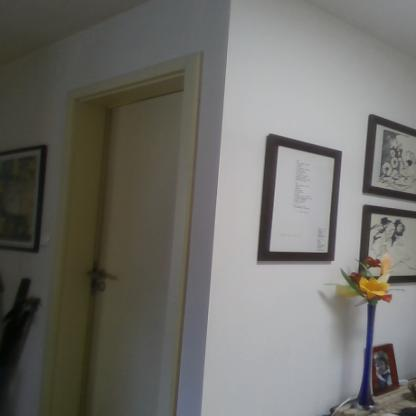door: (90, 106, 182, 416)
lever: (88, 272, 118, 281)
